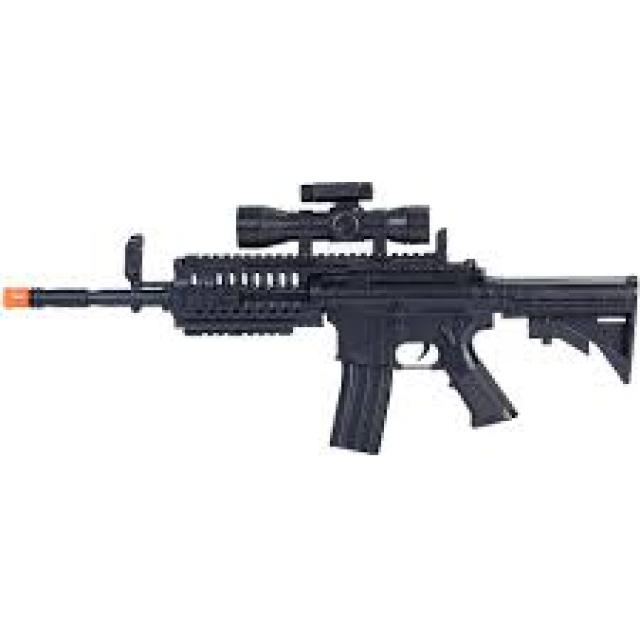rifle: (1, 162, 640, 470)
